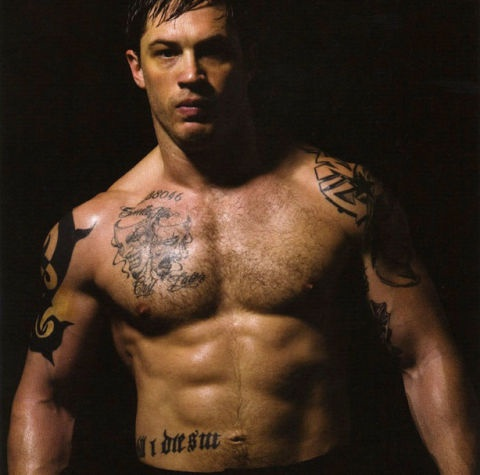bad: (139, 20, 247, 128)
